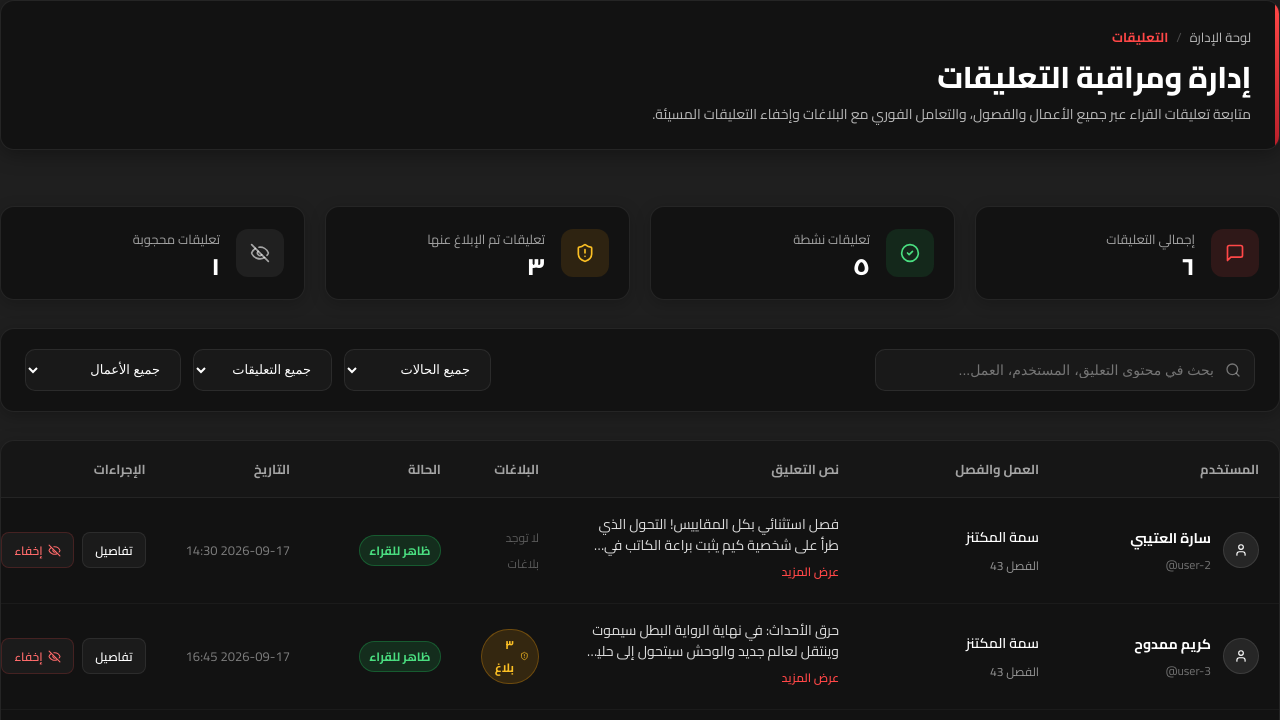
AdminComments Component › opens quick hide modal, provides reason, and confirms hiding
The image size is (1280, 720).
Step 1. Click the button titled "إخفاء التعليق عن القراء" in the row of "2026-09-17 14:30" → coordinates (38, 550), box [2,532,74,568]
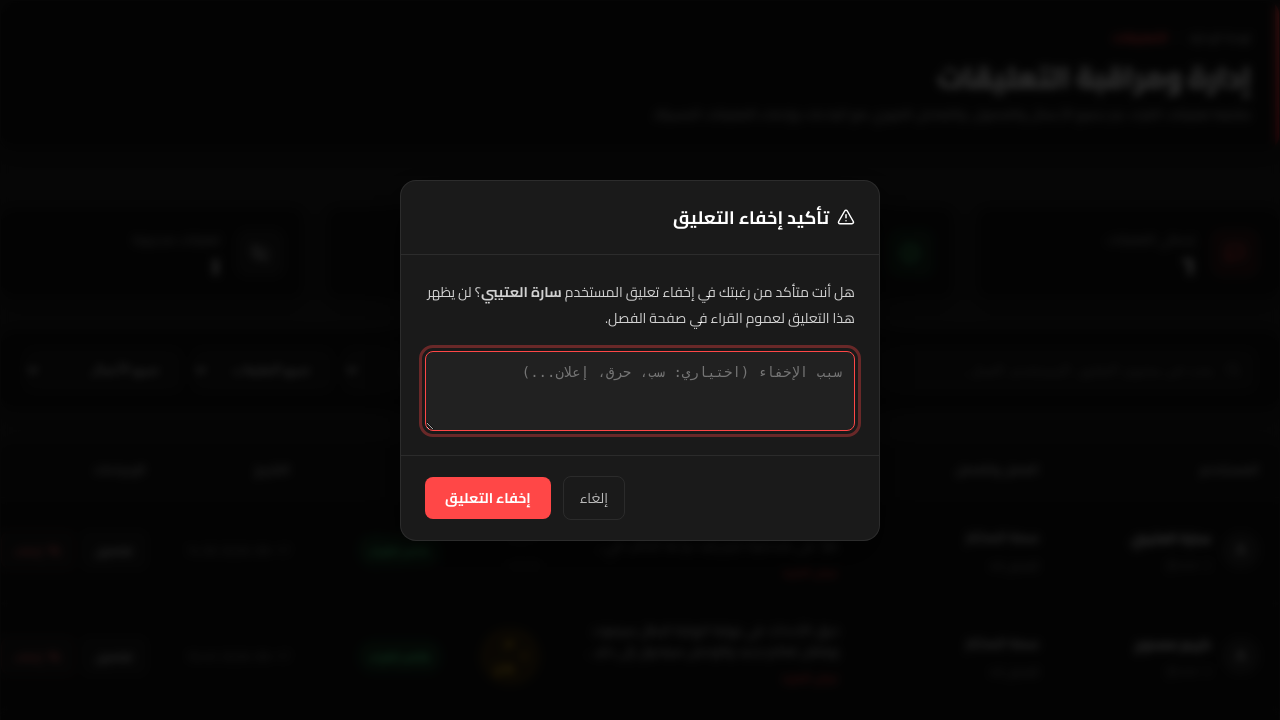
Expected: the dialog is shown
Expected: the text "تأكيد إخفاء التعليق" is shown, [673,200,829,234]
Step 2. Type "مخالف لسياسة المجتمع والنشر" into the text box with placeholder "سبب الإخفاء (اختياري: سب، حرق، إعلان...)" → coordinates (640, 390), box [425,350,855,430]
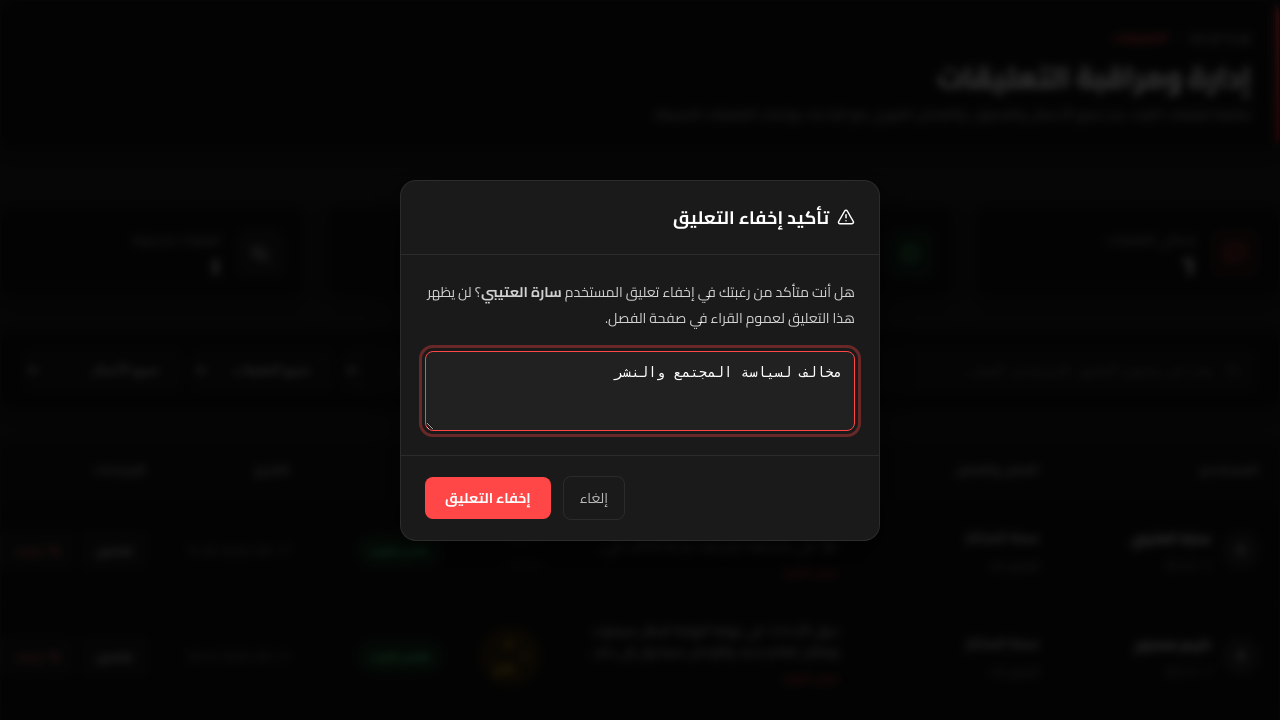
Step 3. Click the button "إخفاء التعليق" → coordinates (488, 498), box [425,476,551,518]
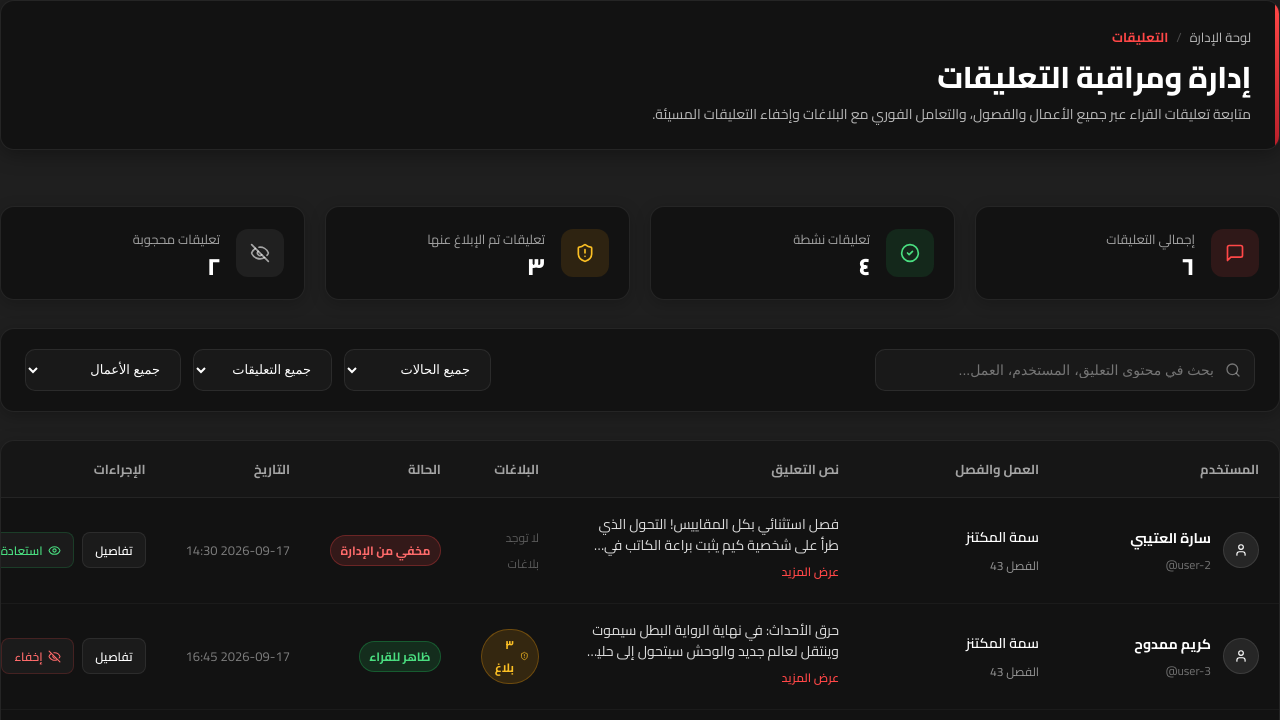
Expected: the dialog is gone
